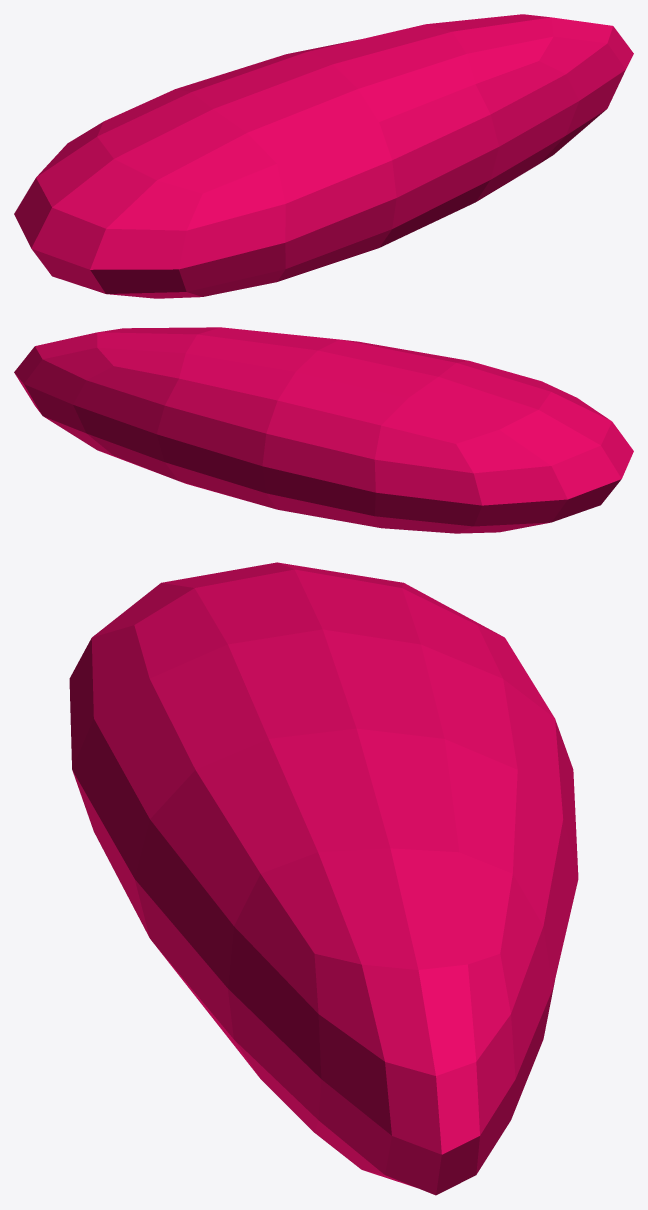
Rendered from stick.fbx.
3 views of the same model, one above another, from view 1: azimuth 30°, elevation 25°; view 2: azimuth 150°, elevation 25°; view 3: azimuth 270°, elevation 25° (orthographic). The views are drawn at different scales.
Visible parts, largest first — view 1: Cube; view 2: Cube; view 3: Cube.
Boxes of the visible parts, x1,y1,x2,y2 form: Cube: (14, 14, 633, 298); Cube: (14, 327, 633, 533); Cube: (69, 562, 578, 1195).
Bounding box in the file's own units: 168 × 42.7 × 65.46.
